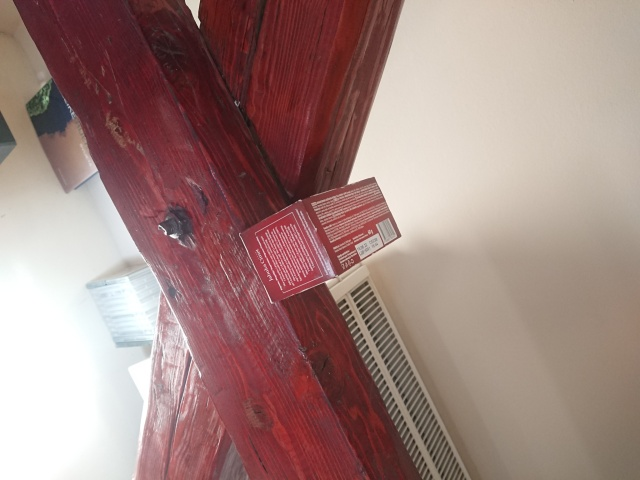Franck Apple Cinnamon Tea 60g: (236, 174, 403, 306)
